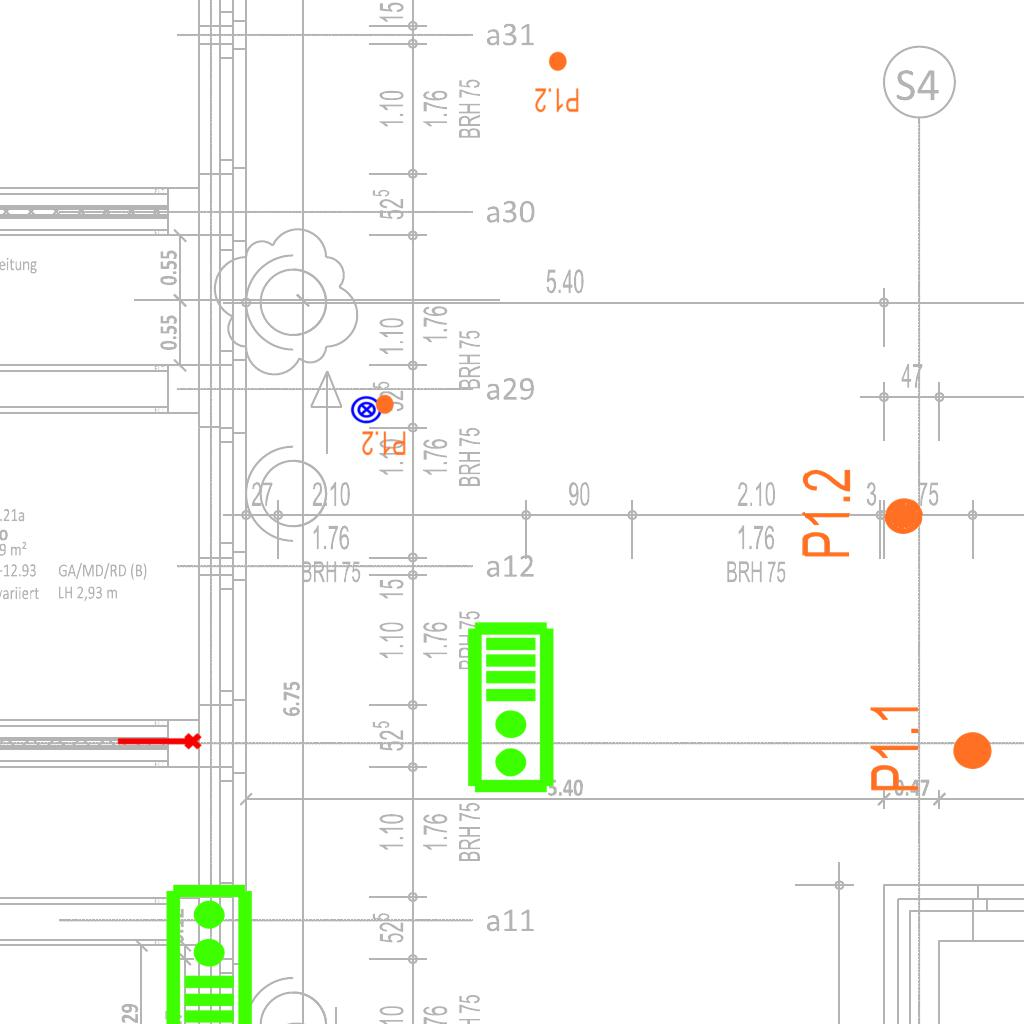ASR_Ansaugoeffnung: (115, 731, 203, 754)
Downlight_LED_Einbauleuchten_Flur: (797, 466, 928, 562), (867, 701, 995, 794), (534, 50, 580, 114), (361, 393, 407, 457)
Gegensprechanlage_mit_Video: (465, 620, 560, 796), (160, 881, 255, 1024)
Taster_beleuchtet: (350, 393, 383, 426)
